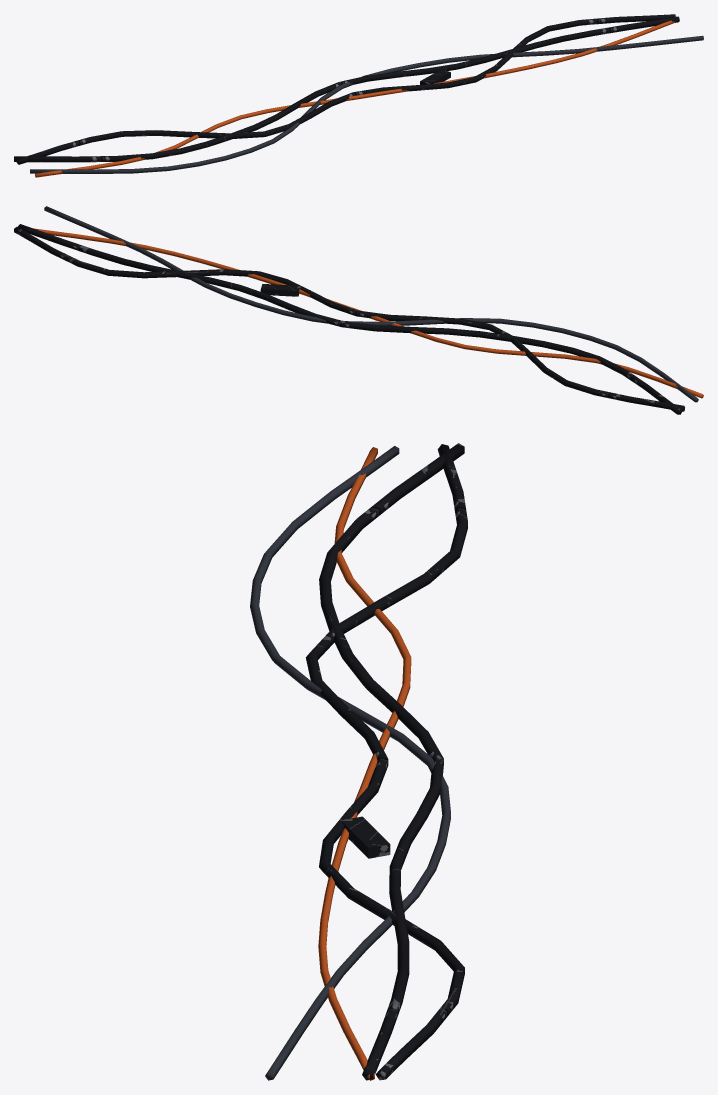
Rendered from Deco_CableRun.001.gltf.
3 views of the same model, one above another, from view 1: azimuth 30°, elevation 25°; view 2: azimuth 150°, elevation 25°; view 3: azimuth 270°, elevation 25° (orthographic). The views are drawn at different scales.
Visible parts, largest first — view 1: Deco_CableRun.001; view 2: Deco_CableRun.001; view 3: Deco_CableRun.001.
Part boxes in pixels (x1,y1,x2,y2): Deco_CableRun.001: [14, 14, 703, 177]; Deco_CableRun.001: [14, 206, 703, 414]; Deco_CableRun.001: [250, 443, 467, 1080].
Size of the model in its own units: 2.51 by 0.0209 by 0.3679.
3 materials, 1 textured.
